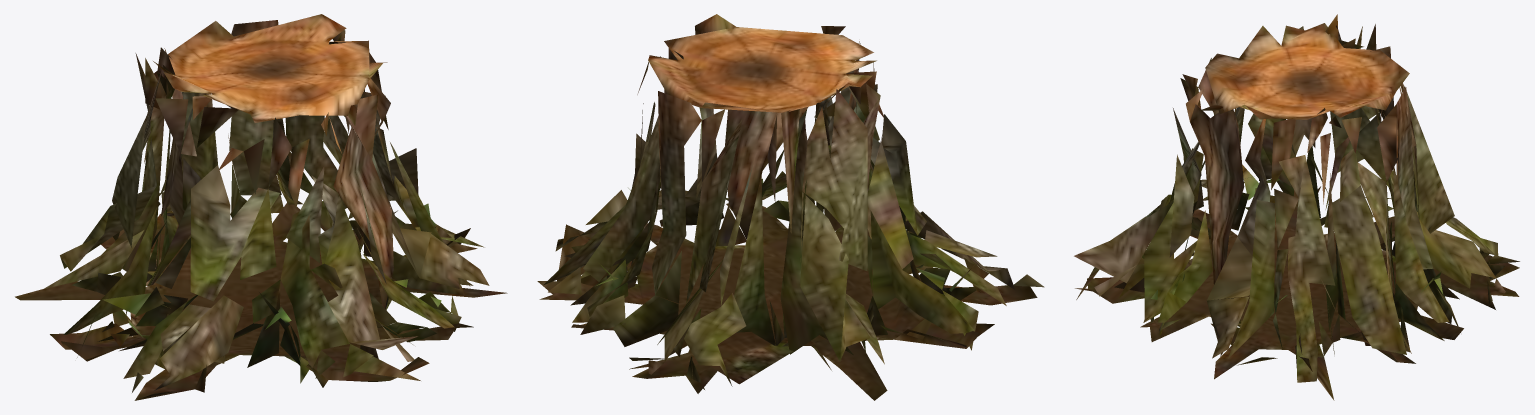
The model's file is toco_lod2.glb.
The picture shows the model from 3 angles, left to right: view 1: azimuth 30°, elevation 25°; view 2: azimuth 150°, elevation 25°; view 3: azimuth 270°, elevation 25°; orthographic projection. The views are drawn at different scales.
Visible parts, largest first — view 1: toco; view 2: toco; view 3: toco.
Boxes of the visible parts, box(x1,y1,x2,y2) form: toco: box(15, 14, 507, 400); toco: box(537, 14, 1044, 400); toco: box(1074, 14, 1519, 400).
Size of the model in its own units: 1.22 by 0.7578 by 1.21.
Materials: 1 (1 with a texture image).
